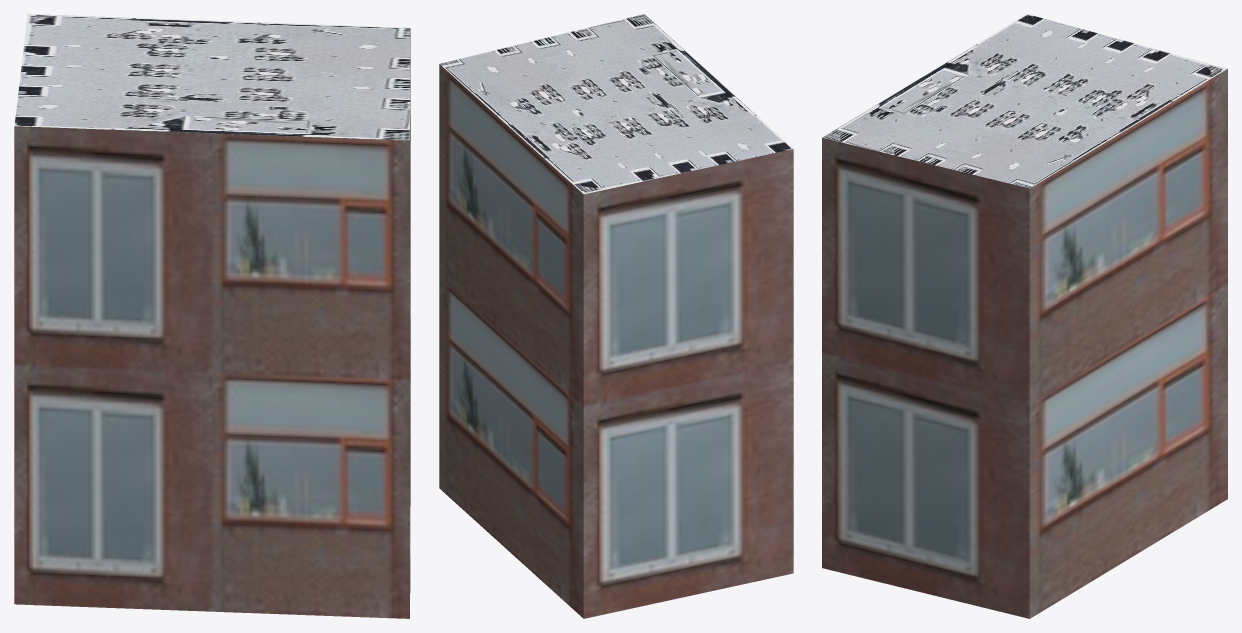
File: ResTex__4379.fbx
3 views of the same model, side by side, from view 1: azimuth 30°, elevation 25°; view 2: azimuth 150°, elevation 25°; view 3: azimuth 270°, elevation 25° (orthographic). The views are drawn at different scales.
Visible parts, largest first — view 1: CityEngineMaterial_19_m, CityEngineMaterial_15_m; view 2: CityEngineMaterial_19_m, CityEngineMaterial_15_m; view 3: CityEngineMaterial_19_m, CityEngineMaterial_15_m.
Boxes of the visible parts, left/top/right/bottom form: CityEngineMaterial_19_m: left=14, top=28, right=410, bottom=618; CityEngineMaterial_15_m: left=14, top=14, right=410, bottom=140; CityEngineMaterial_19_m: left=439, top=64, right=793, bottom=618; CityEngineMaterial_15_m: left=440, top=14, right=793, bottom=194; CityEngineMaterial_19_m: left=822, top=69, right=1227, bottom=618; CityEngineMaterial_15_m: left=822, top=14, right=1227, bottom=188.
Bounding box in the file's own units: 5.22 × 6 × 5.13.
Materials: 2 (2 with a texture image).
